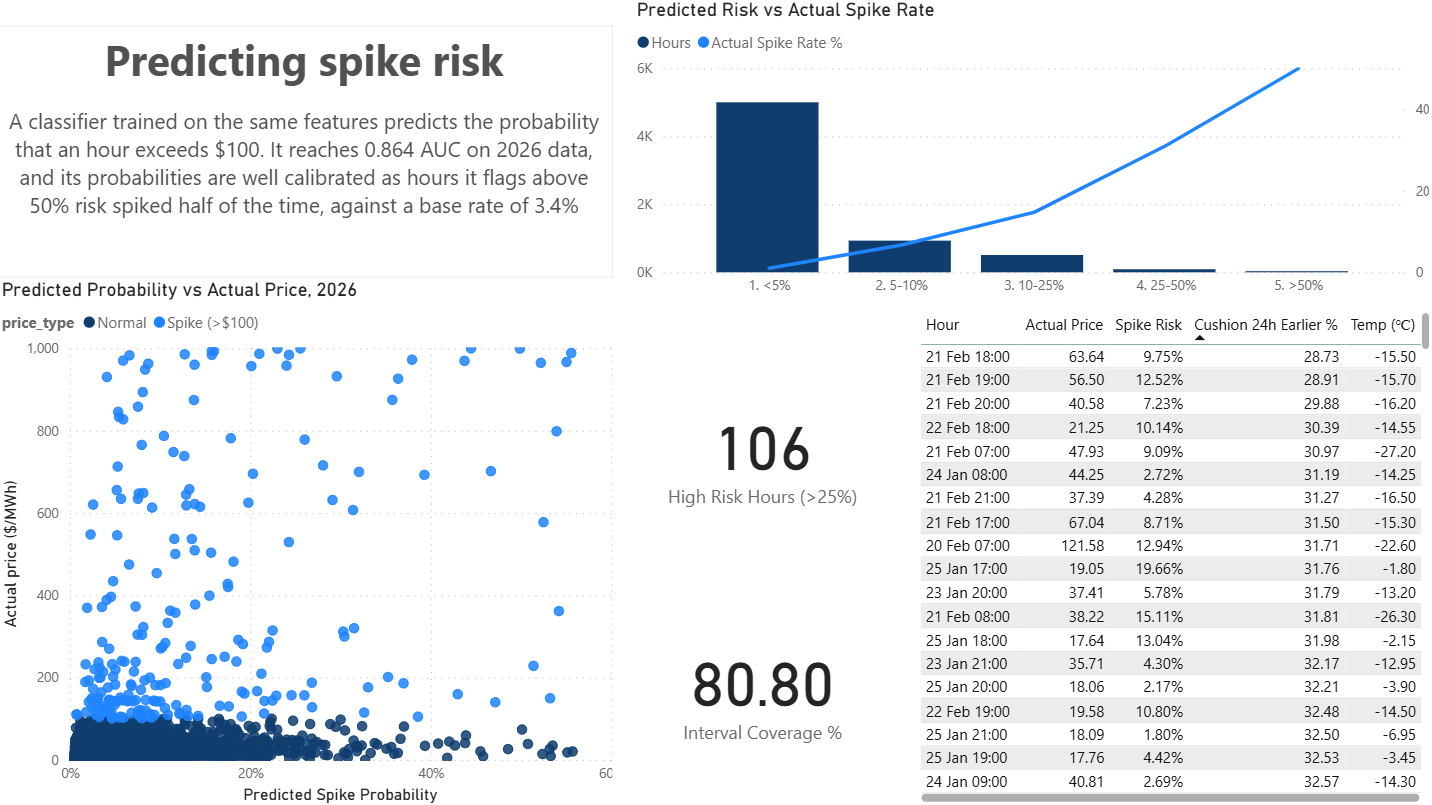

The dashboard page shown, as its layout file describes it:
{"tool":"powerbi","page":{"name":"Spike Risk","canvas":[1280,720],"ordinal":2},"visuals":[{"type":"textbox","box":[0,24.7,547.5,223.7],"z":0},{"type":"lineClusteredColumnComboChart","title":"Predicted Risk vs Actual Spike Rate","fields":{"Category":["calibration.predicted_risk"],"Y":["Sum(calibration.hours)"],"Y2":["Sum(calibration.actual_spike_pct)"]},"box":[564.4,0,715.6,273.8],"z":1000},{"type":"tableEx","fields":{"Values":["fact_hourly.Hour","fact_hourly.pool_price","fact_hourly.spike_prob","fact_hourly.cushion_lag24","fact_hourly.temp_avg"]},"box":[815.1,274.4,465.2,446],"z":2000},{"type":"scatterChart","title":"Predicted Probability vs Actual Price, 2026","fields":{"X":["Avg(fact_hourly.spike_prob)"],"Y":["Avg(fact_hourly.pool_price)"],"Series":["fact_hourly.price_type"],"Category":["fact_hourly.Hour"]},"box":[0,248.4,564,472],"z":3000},{"type":"card","fields":{"Values":["fact_hourly.Interval Coverage %"]},"box":[547.5,507.7,267.6,212.7],"z":4000},{"type":"card","fields":{"Values":["fact_hourly.High Risk Hours"]},"box":[547.5,311.5,267.6,186.6],"z":5000}]}

Visuals, with their boxes in screenshot pixels (x1, y1, x2, y2), scaled from the page's 1280x720 canvas onto the 1432x805 screenshot:
textbox: [x1=0, y1=28, x2=613, y2=278]
"Predicted Risk vs Actual Spike Rate" lineClusteredColumnComboChart: [x1=631, y1=0, x2=1431, y2=306]
tableEx - fact_hourly.Hour x fact_hourly.pool_price: [x1=912, y1=307, x2=1431, y2=804]
"Predicted Probability vs Actual Price, 2026" scatterChart: [x1=0, y1=278, x2=631, y2=804]
card - fact_hourly.Interval Coverage %: [x1=613, y1=568, x2=912, y2=804]
card - fact_hourly.High Risk Hours: [x1=613, y1=348, x2=912, y2=557]
